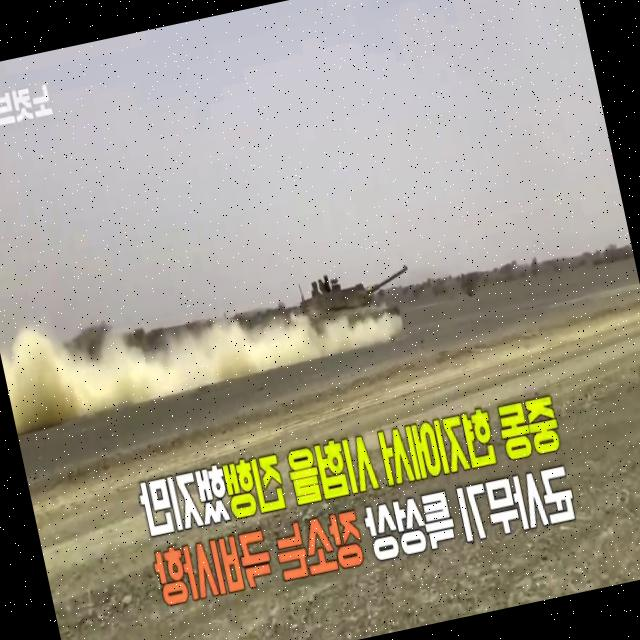korea tank: (276, 255, 424, 368)
